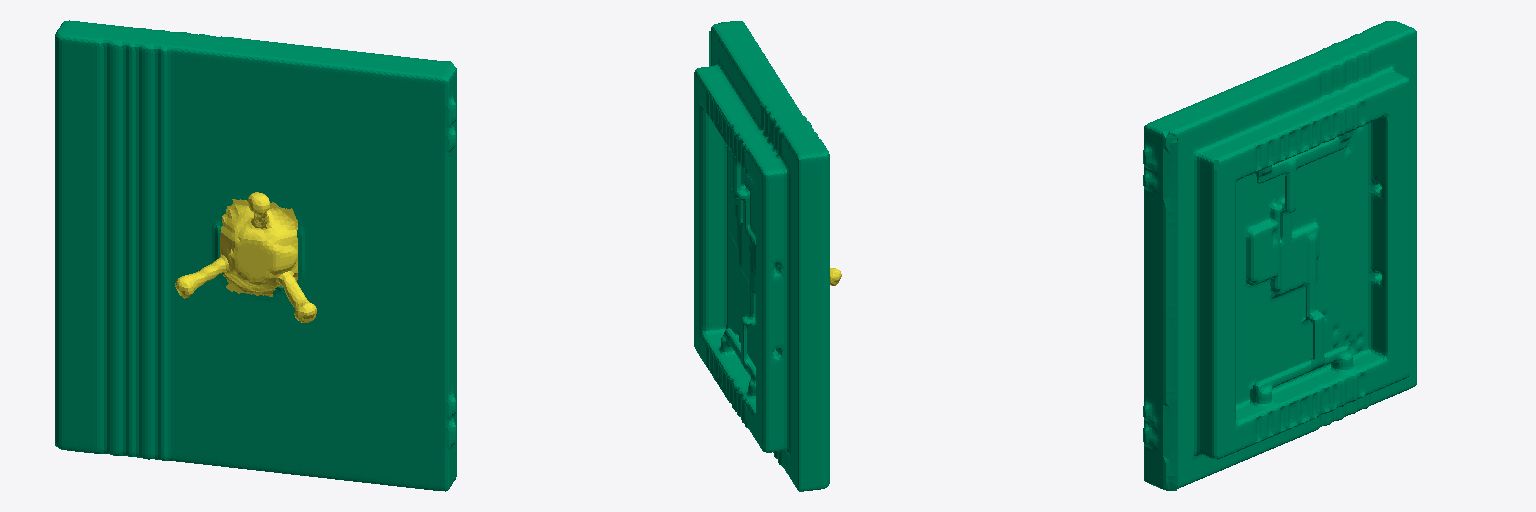
URDF robot description (object):
<?xml version='1.0' encoding='utf-8'?>
<robot name="object">
  <link name="base">
    <inertial>
      <origin xyz="0 0 0" rpy="0 0 0" />
      <mass value="0.0" />
      <inertia ixx="0" ixy="0" ixz="0" iyy="0" iyz="0" izz="0" />
    </inertial>
  </link>
  <link name="link_1">
    <visual>
      <origin xyz="0 0 0" rpy="0 0 0" />
      <geometry>
        <mesh filename="meshes/link_1.stl" />
      </geometry>
    </visual>
    <collision>
      <origin xyz="0 0 0" rpy="0 0 0" />
      <geometry>
        <mesh filename="meshes/link_1.stl" />
      </geometry>
    </collision>
    <inertial>
      <origin xyz="0.253461079 0.060911103 0.0535149727" rpy="0 0 0" />
      <mass value="276.28111" />
      <inertia ixx="62.2606749" ixy="4.18795273" ixz="1.28292402" iyy="51.1602419" iyz="0.18568624" izz="48.8230143" />
    </inertial>
  </link>
  <link name="link_2">
    <visual>
      <origin xyz="0.276042128 0.381241422 -0.0189477574" rpy="0 0 0" />
      <geometry>
        <mesh filename="meshes/link_2.stl" />
      </geometry>
    </visual>
    <collision>
      <origin xyz="0.276042128 0.381241422 -0.0189477574" rpy="0 0 0" />
      <geometry>
        <mesh filename="meshes/link_2.stl" />
      </geometry>
    </collision>
    <inertial>
      <origin xyz="-0.505476995 0.223091021 0.00604531852" rpy="0 0 0" />
      <mass value="58.1384504" />
      <inertia ixx="10.7415046" ixy="2.92826154" ixz="0.00569950063" iyy="10.9273195" iyz="0.00506908859" izz="6.33711148" />
    </inertial>
  </link>
  <link name="link_3">
    <visual>
      <origin xyz="0.627862795 0.160299818 -0.0565293281" rpy="0 0 0" />
      <geometry>
        <mesh filename="meshes/link_3.stl" />
      </geometry>
    </visual>
    <collision>
      <origin xyz="0.627862795 0.160299818 -0.0565293281" rpy="0 0 0" />
      <geometry>
        <mesh filename="meshes/link_3.stl" />
      </geometry>
    </collision>
    <inertial>
      <origin xyz="-0.0231761331 -0.0275868358 -0.00447578145" rpy="0 0 0" />
      <mass value="1.22723536" />
      <inertia ixx="0.00694190326" ixy="0.00166785409" ixz="-2.1806177e-05" iyy="0.00705786636" iyz="-7.52421648e-05" izz="0.00505690801" />
    </inertial>
  </link>
  <joint name="joint_1_2" type="revolute">
    <parent link="link_1" />
    <child link="link_2" />
    <origin xyz="-0.276042128 -0.381241422 0.0189477574" rpy="0 0 0" />
    <axis xyz="-0.000345670455 0.00703044828 0.999975226" />
    <limit lower="-1.57" upper="1.57" effort="10.0" velocity="1.0" />
  </joint>
  <joint name="joint_2_3" type="revolute">
    <parent link="link_2" />
    <child link="link_3" />
    <origin xyz="-0.351820667 0.220941604 0.0375815708" rpy="0 0 0" />
    <axis xyz="0.70694794 0.707264481 -0.00125093872" />
    <limit lower="-1.57" upper="1.57" effort="10.0" velocity="1.0" />
  </joint>
  <joint name="base_to_1" type="fixed">
    <parent link="base" />
    <child link="link_1" />
    <origin xyz="0 0 0" rpy="0 0 0" />
  </joint>
</robot>

--- Render facts (derived) ---
Views: 3 orthographic renders of the robot side by side, from view 1: azimuth 30°, elevation 25°; view 2: azimuth 150°, elevation 25°; view 3: azimuth 270°, elevation 25°.
Model object with 4 links and 3 joints (2 revolute, 1 fixed), rooted at base, posed all joints at 0.
Links seen in each view (by area): view 1: link_2, link_3; view 2: link_2; view 3: link_2.
Boxes of the visible links, left/top/right/bottom form: link_2: left=55, top=20, right=456, bottom=491; link_3: left=175, top=192, right=316, bottom=322; link_2: left=694, top=21, right=829, bottom=491; link_2: left=1143, top=21, right=1416, bottom=490.
Size in the robot's own frame: 0.6688 by 0.6772 by 0.9804 metres.
Meshes: 3 distinct files referenced, 2 mesh visuals loaded (2 binary STL); not drawn: 1 (reference not matched to a file when rendering).
